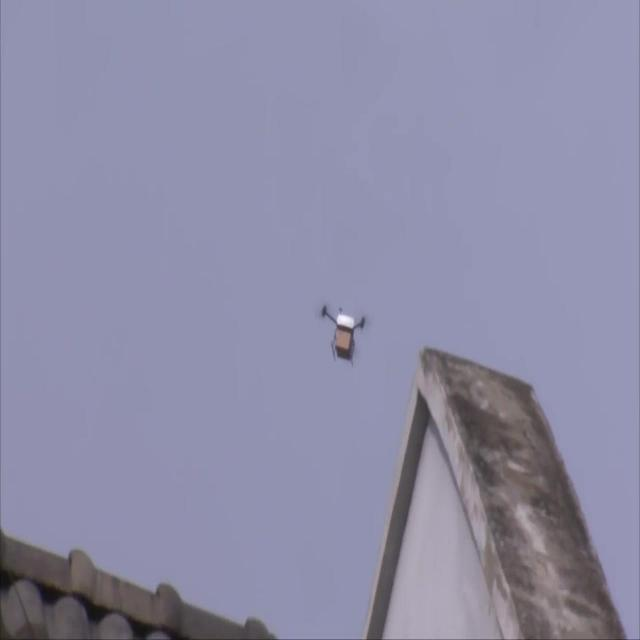UAV: (321, 304, 365, 367)
